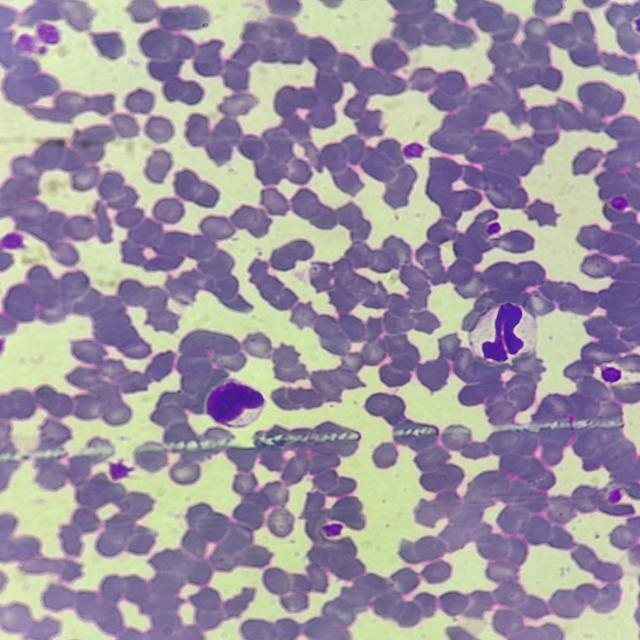Neutrofilo: (469, 302, 540, 364)
